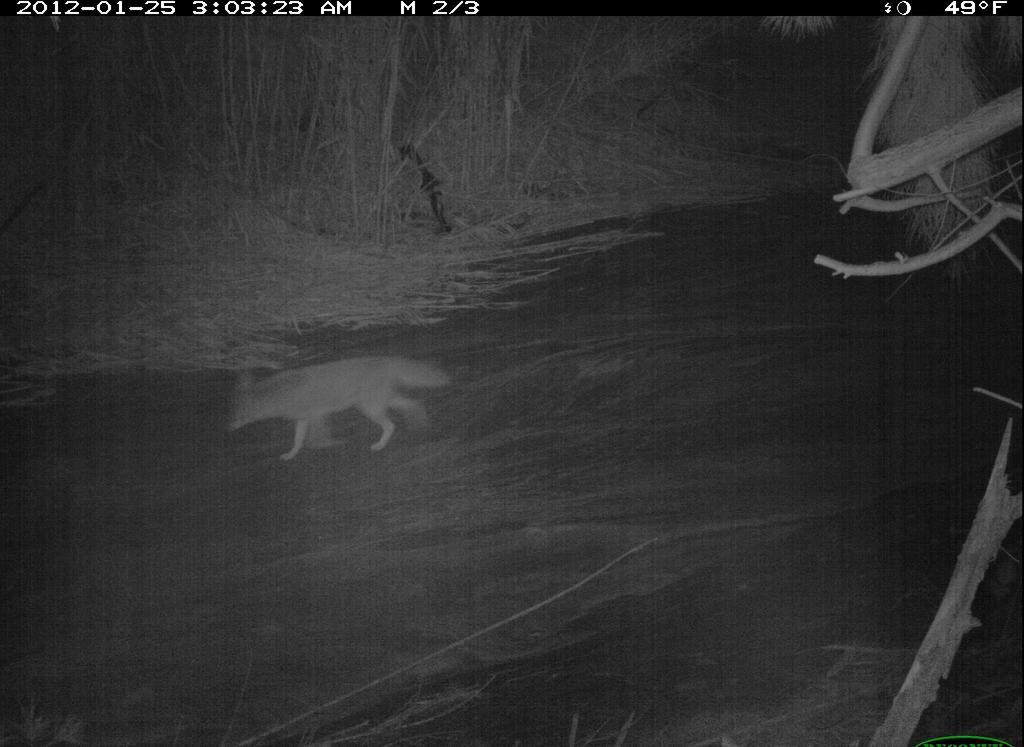coyote: (218, 349, 468, 469)
